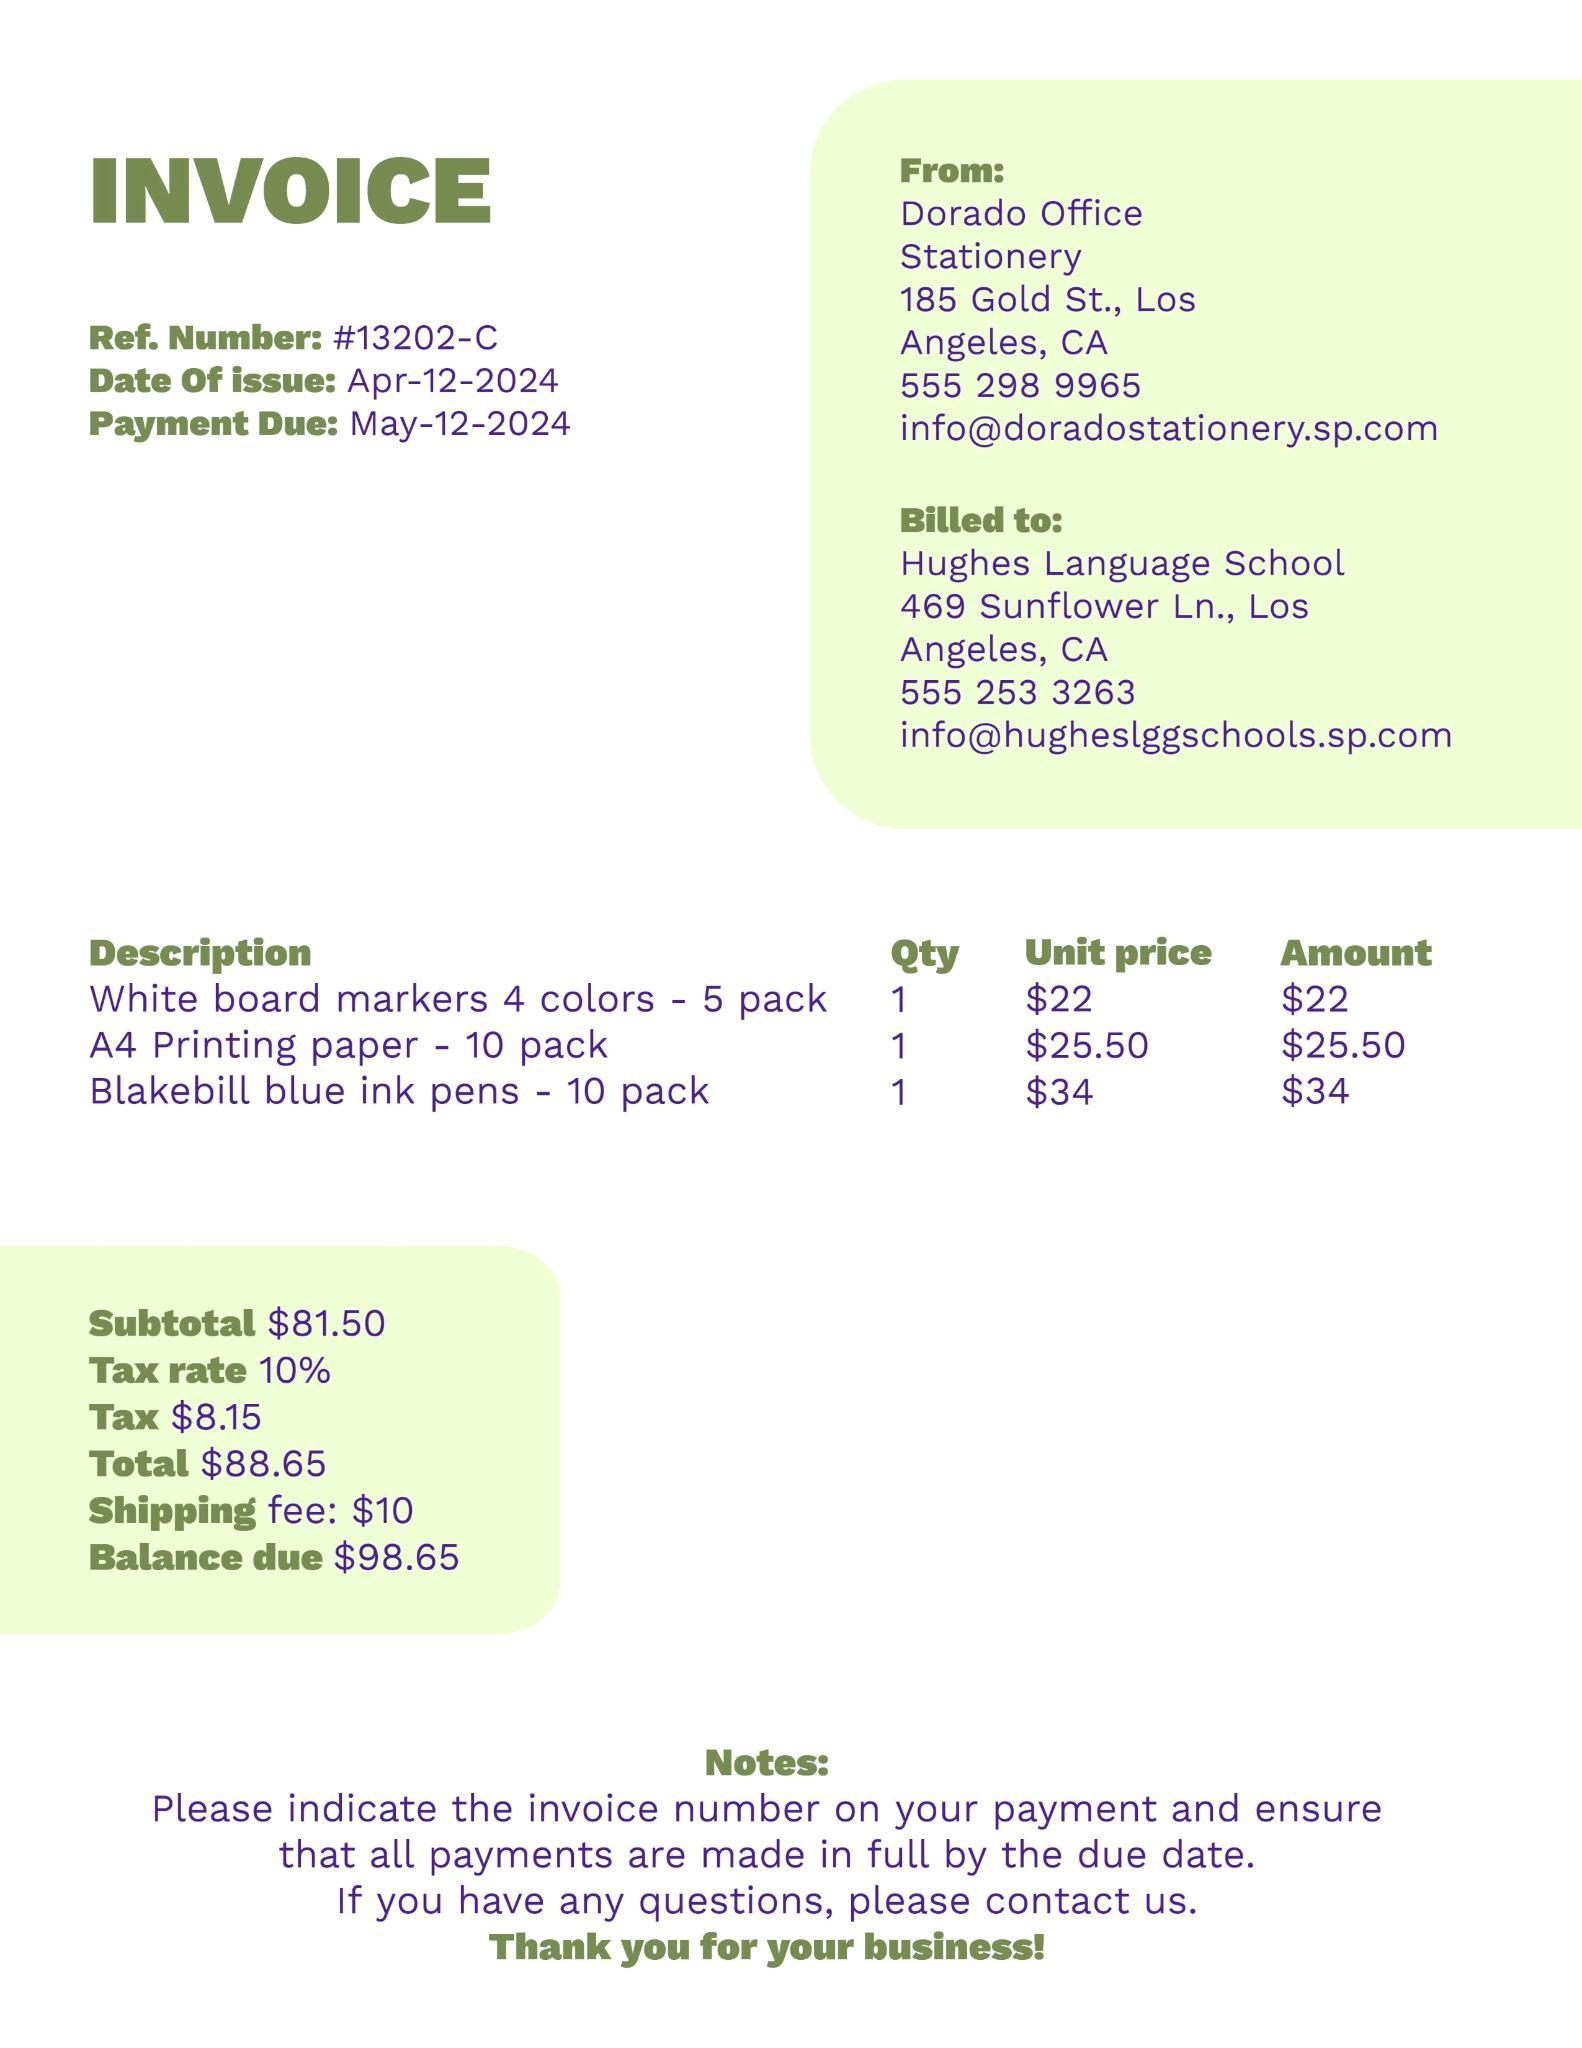ROI: (91, 1693, 1419, 1988), (42, 910, 1471, 1143), (857, 143, 1471, 457), (856, 487, 1486, 782), (40, 1257, 517, 1618), (52, 291, 603, 463), (71, 130, 532, 246)
